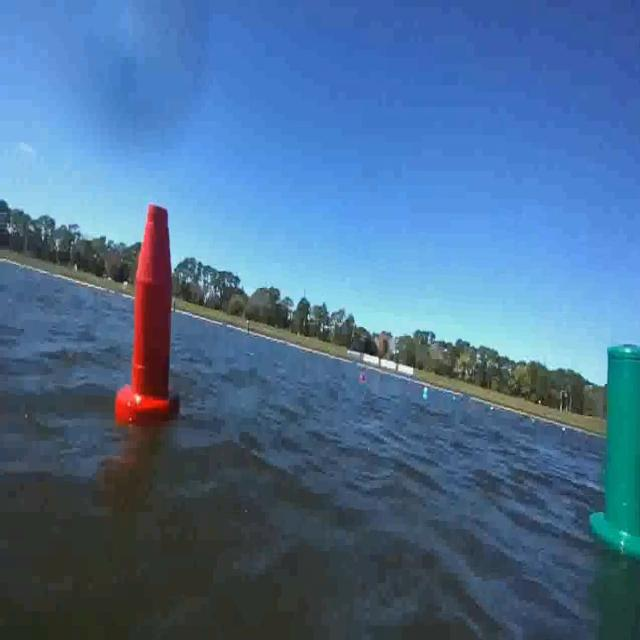green-column-buoy: (590, 346, 640, 560)
red-column-buoy: (118, 198, 182, 428)
